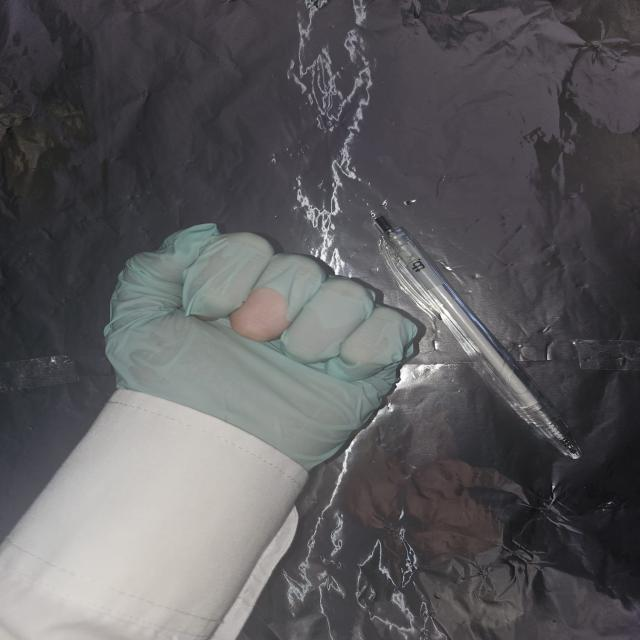gloves_damaged: (102, 223, 424, 479)
